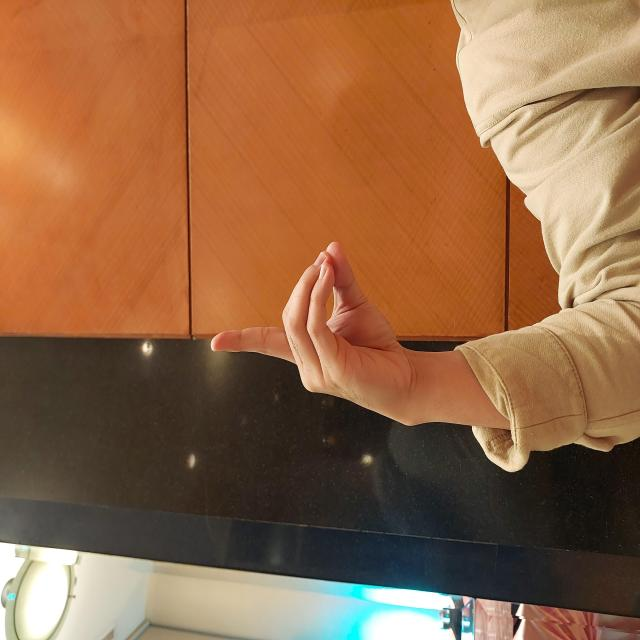D: (214, 210, 399, 416)
